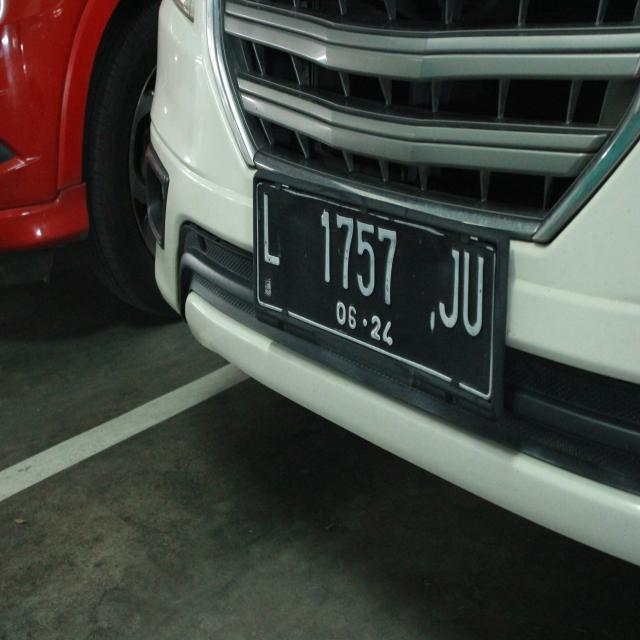1: (312, 192, 341, 296)
5: (349, 214, 382, 310)
7: (368, 212, 408, 324), (330, 202, 358, 294)
J: (432, 232, 465, 340)
L: (246, 175, 291, 280)
U: (463, 238, 503, 370)
